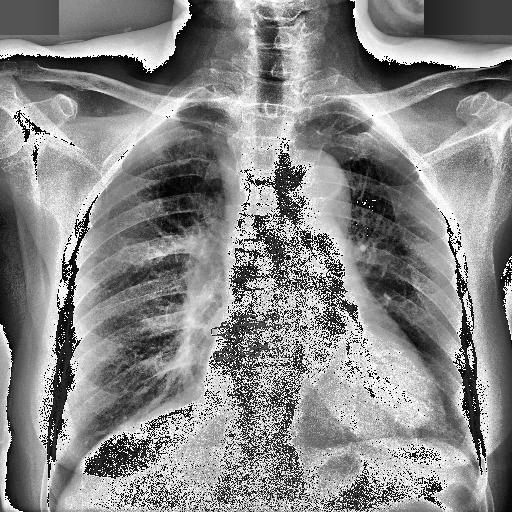0- Aortic enlargement: (280, 150, 354, 244), (273, 148, 353, 212), (286, 151, 344, 202)
3- Cardiomegaly: (187, 353, 452, 448), (194, 351, 452, 443), (196, 348, 446, 440)
